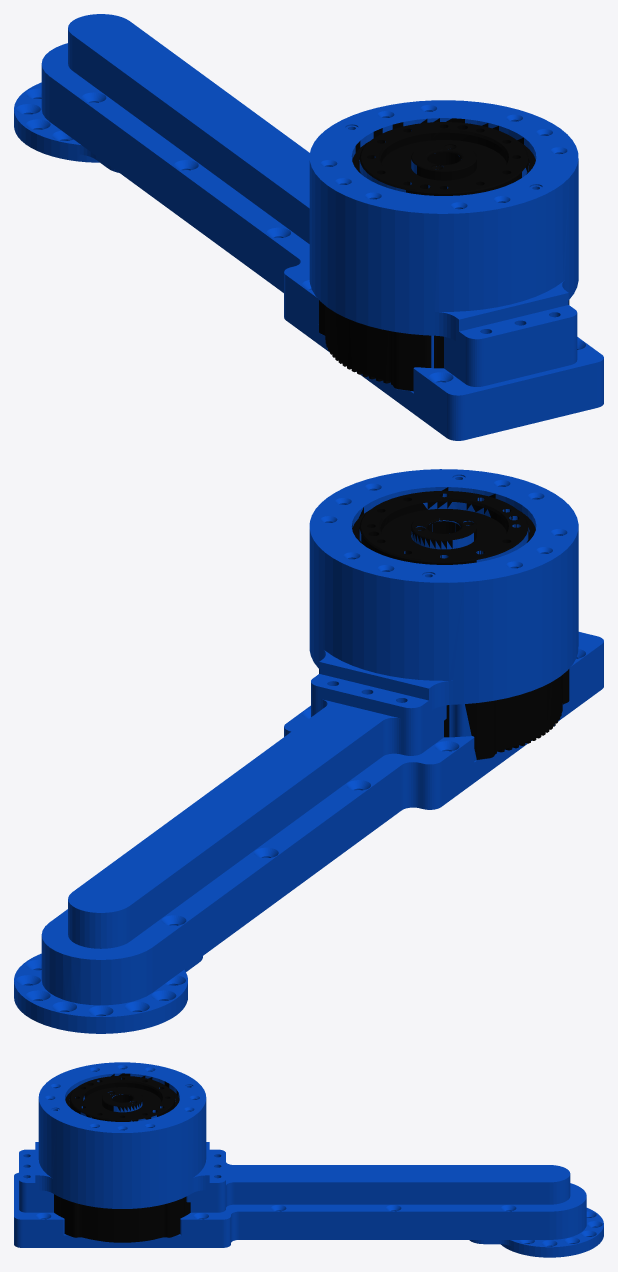
File: WeMO_Leg_thigh.dae
3 views of the same model, one above another, from view 1: azimuth 30°, elevation 25°; view 2: azimuth 150°, elevation 25°; view 3: azimuth 270°, elevation 25° (orthographic). The views are drawn at different scales.
Visible parts, largest first — view 1: WeMO_Leg_thigh_v2; view 2: WeMO_Leg_thigh_v2; view 3: WeMO_Leg_thigh_v2.
Boxes of the visible parts, bbox=[...] form: WeMO_Leg_thigh_v2: bbox=[14, 14, 603, 440]; WeMO_Leg_thigh_v2: bbox=[14, 469, 603, 1033]; WeMO_Leg_thigh_v2: bbox=[14, 1062, 603, 1257].
Bounding box in the file's own units: 102 × 359 × 95.5.
